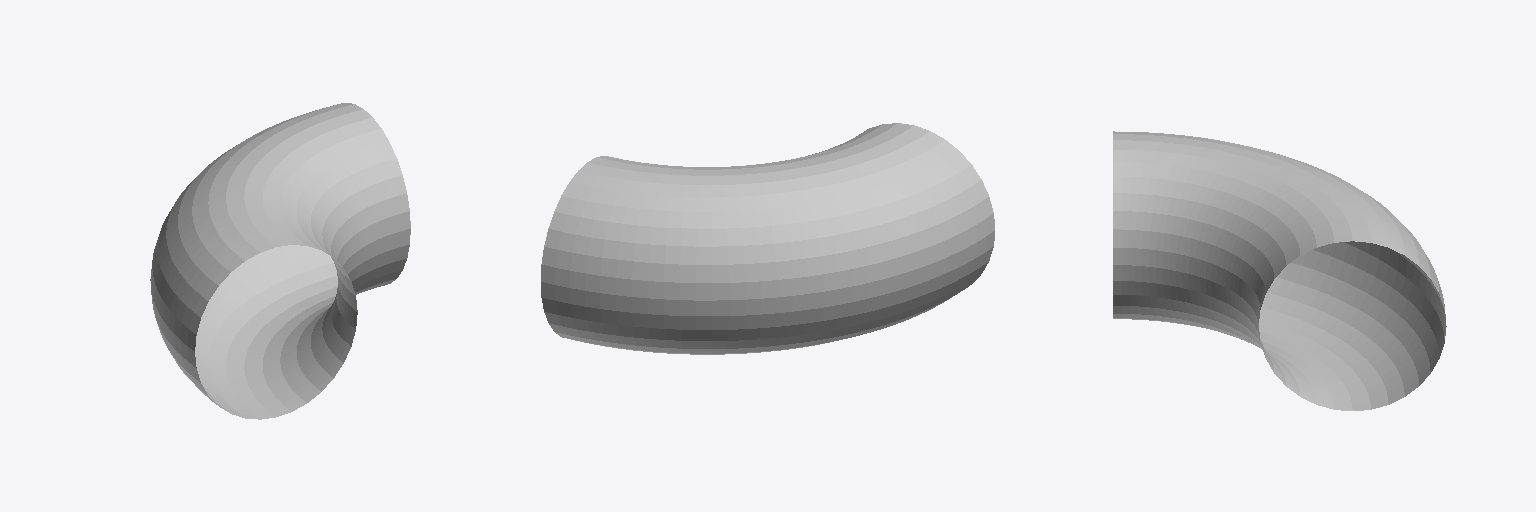
File: cylinder90degreebend2.obj
3 views of the same model, side by side, from view 1: azimuth 30°, elevation 25°; view 2: azimuth 150°, elevation 25°; view 3: azimuth 270°, elevation 25° (orthographic).
Visible parts, largest first — view 1: Cylinder; view 2: Cylinder; view 3: Cylinder.
Boxes of the visible parts, x1=… form: Cylinder: x1=150, y1=103, x2=410, y2=419; Cylinder: x1=541, y1=123, x2=994, y2=354; Cylinder: x1=1113, y1=131, x2=1446, y2=410.
Bounding box in the file's own units: 0.8866 × 0.5 × 0.8866.